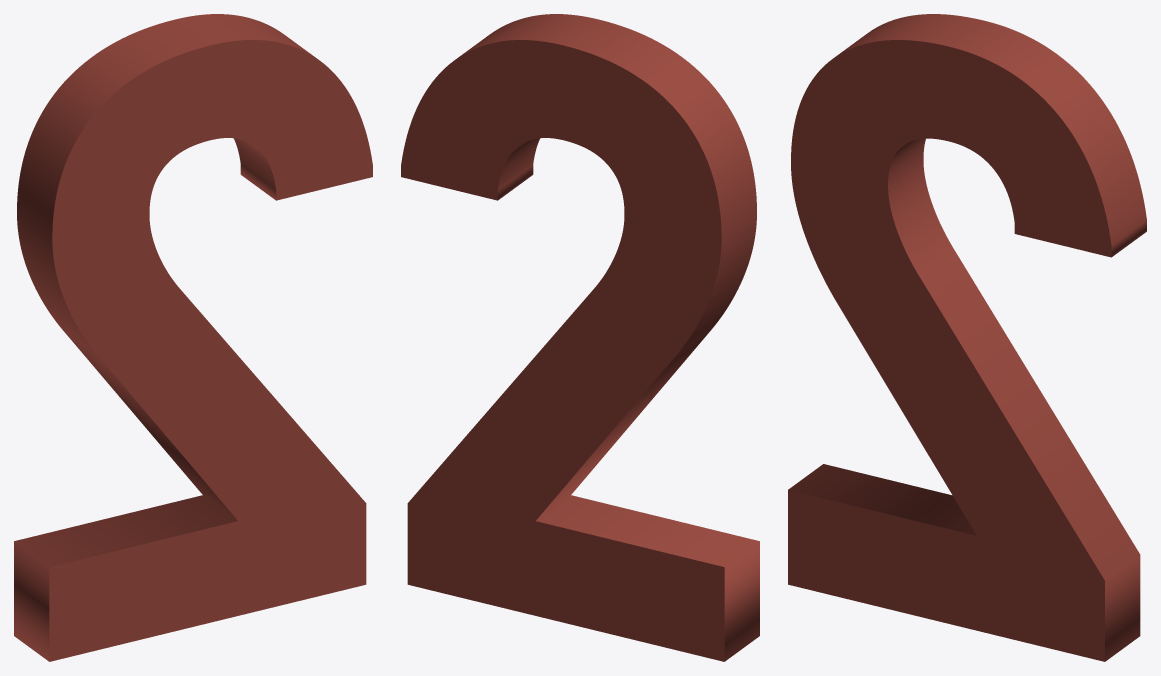
The model's file is Цифра_2.fbx.
3 renders of one model, left to right at view 1: azimuth 30°, elevation 25°; view 2: azimuth 150°, elevation 25°; view 3: azimuth 330°, elevation 25°, orthographic.
Parts seen in each view (by area): view 1: 2; view 2: 2; view 3: 2.
Part boxes in pixels (bbox=[...]): 2: bbox=[14, 14, 372, 661]; 2: bbox=[401, 14, 759, 661]; 2: bbox=[788, 14, 1146, 661].
Size of the model in its own units: 252 by 429 by 47.74.
